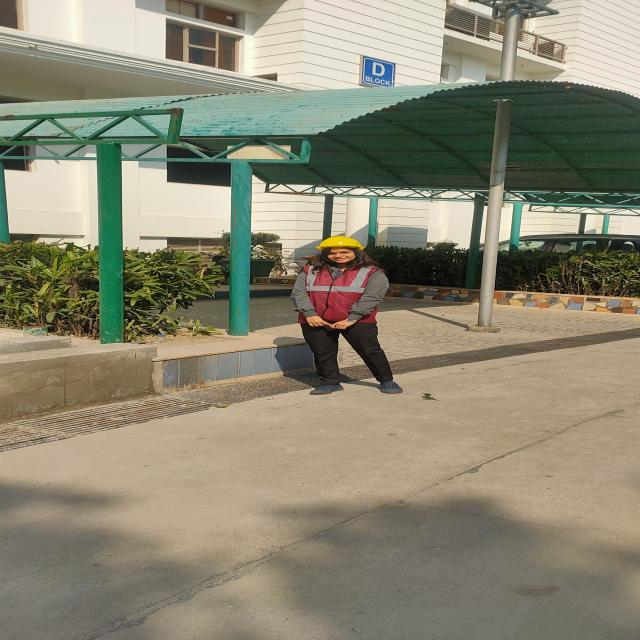safe: (297, 236, 389, 394)
